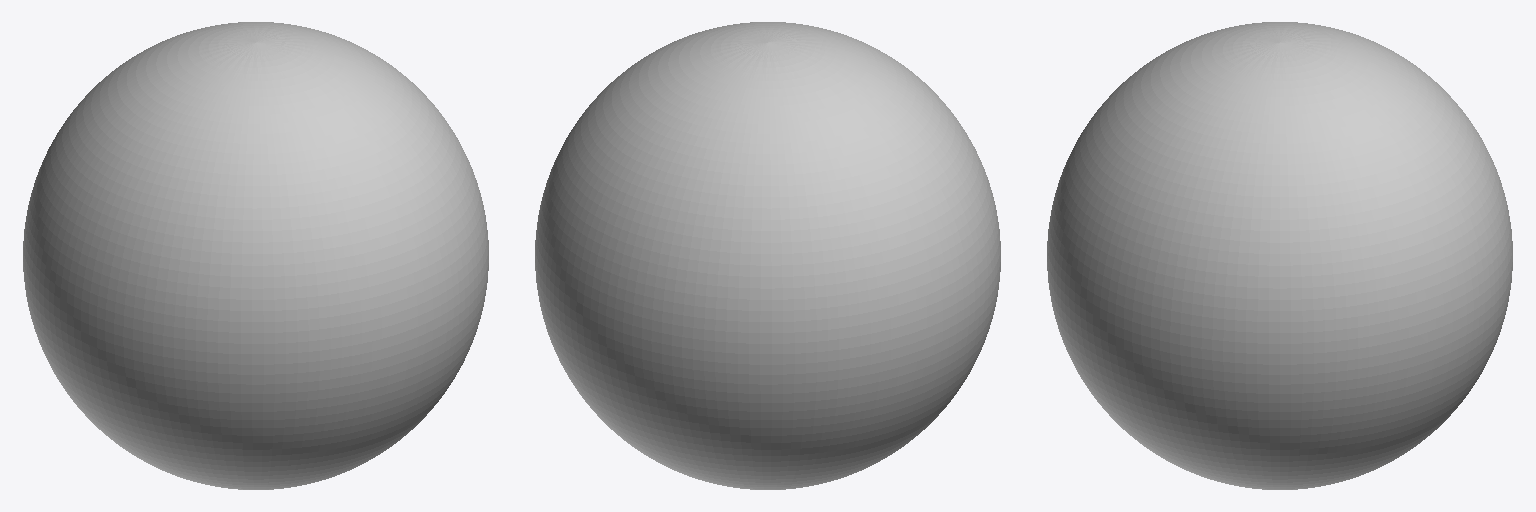
3 renders of one model, left to right at view 1: azimuth 30°, elevation 25°; view 2: azimuth 150°, elevation 25°; view 3: azimuth 270°, elevation 25°, orthographic.
Parts seen in each view (by area): view 1: REPLACE_ME_Sphere; view 2: REPLACE_ME_Sphere; view 3: REPLACE_ME_Sphere.
Boxes of the visible parts, box(x1,y1,x2,y2) form: REPLACE_ME_Sphere: box(23, 22, 488, 489); REPLACE_ME_Sphere: box(535, 22, 1000, 489); REPLACE_ME_Sphere: box(1047, 22, 1512, 489).
Size of the model in its own units: 1.98 by 2 by 1.98.